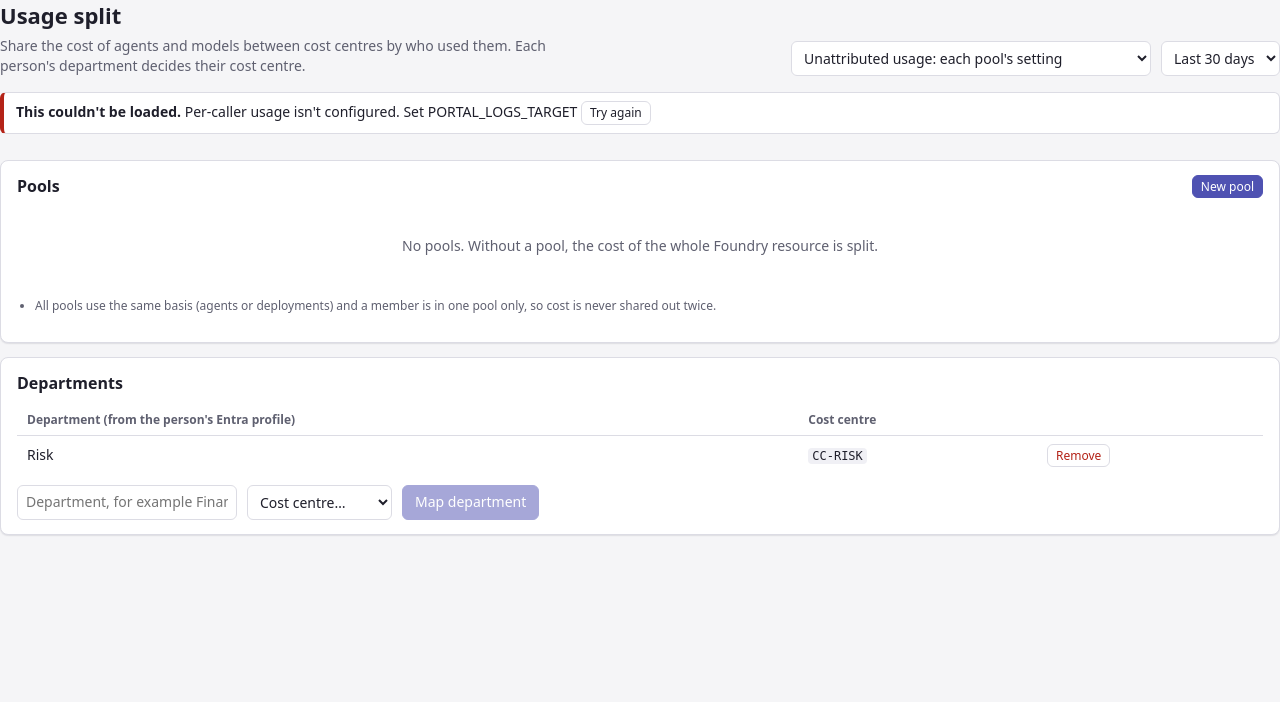
UsageSplitPage › says what is wrong when the usage isn't connected, instead of showing numbers
The image size is (1280, 702).
Expected: the message shows "PORTAL_LOGS_TARGET", x1=185 y1=102 x2=577 y2=122
Expected: the heading "Departments" is shown, x1=17 y1=372 x2=123 y2=394
Click the button "Try again". click: (616, 113)
box: x1=581 y1=102 x2=651 y2=125
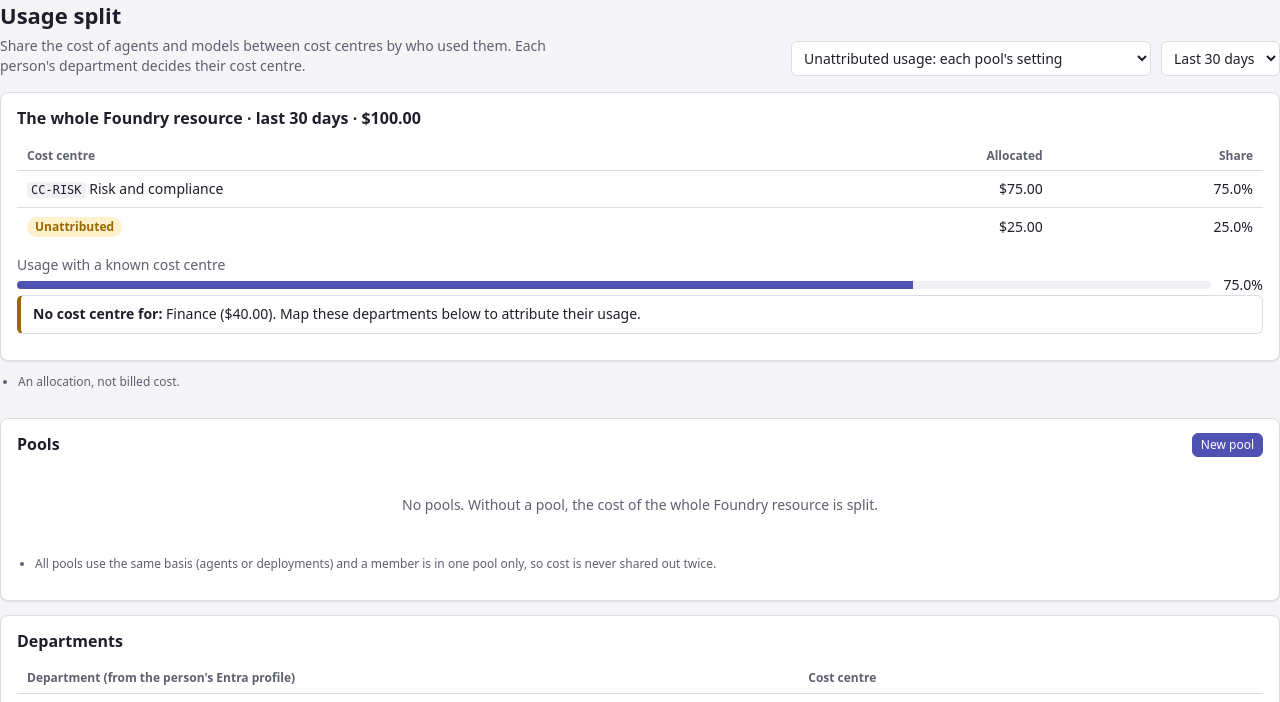
Result: the text "$75.00" is shown at x1=783 y1=171 x2=1053 y2=208
